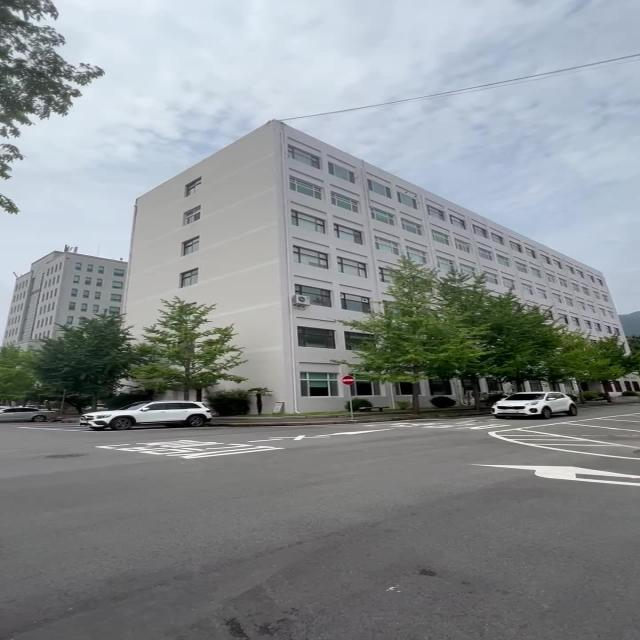building: (106, 136, 402, 308)
